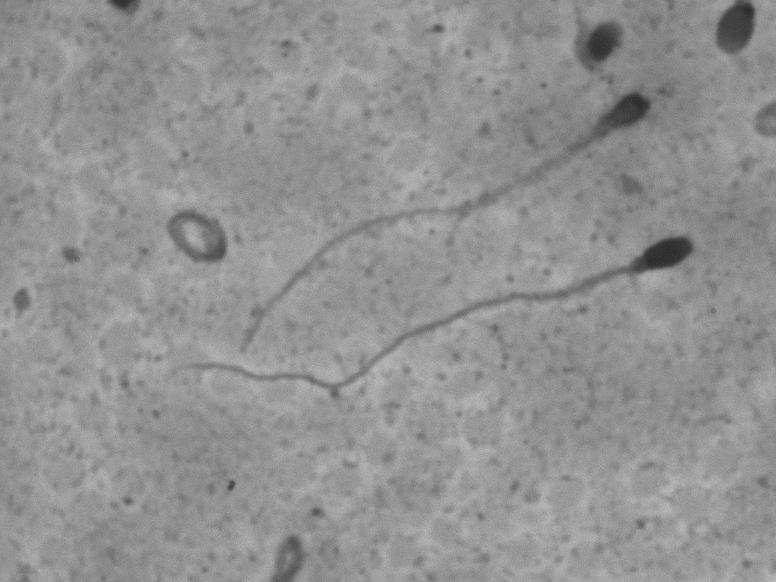Abnormal: (211, 76, 666, 362), (410, 213, 705, 347)
